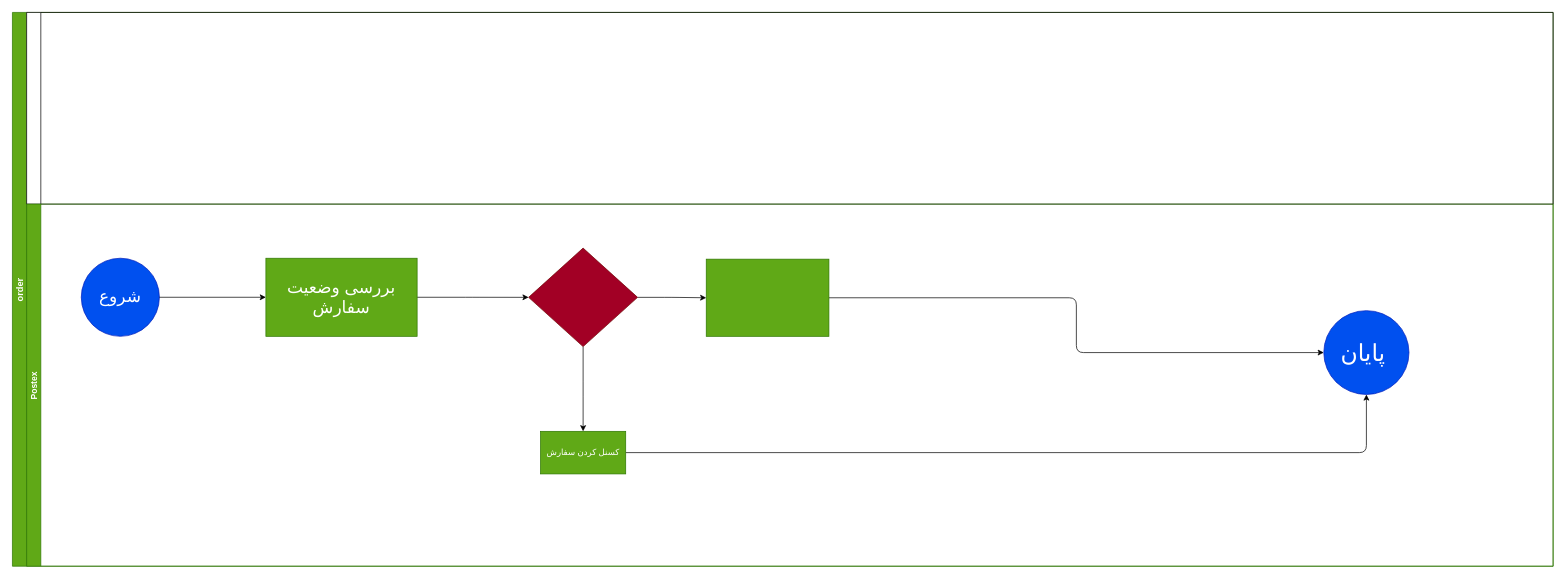
Image size: 1566x579. Some labels were removed from this diagram. Each missing label, with the centre of its shape:
Customer: (789,108)
کد رهگری دارد: (583,297)
کسر مبلغ بارکد از کیف بلوک شده: (767,297)
